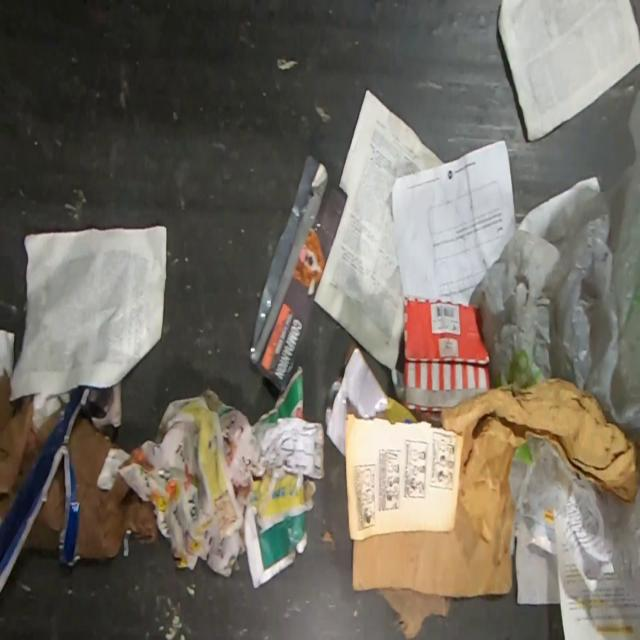cardboard: (352, 376, 640, 597), (326, 345, 462, 541), (0, 385, 91, 602), (390, 297, 489, 409), (25, 455, 65, 551), (378, 591, 452, 639)
soft_plastic: (470, 86, 640, 466), (250, 153, 345, 396), (510, 435, 640, 592)
